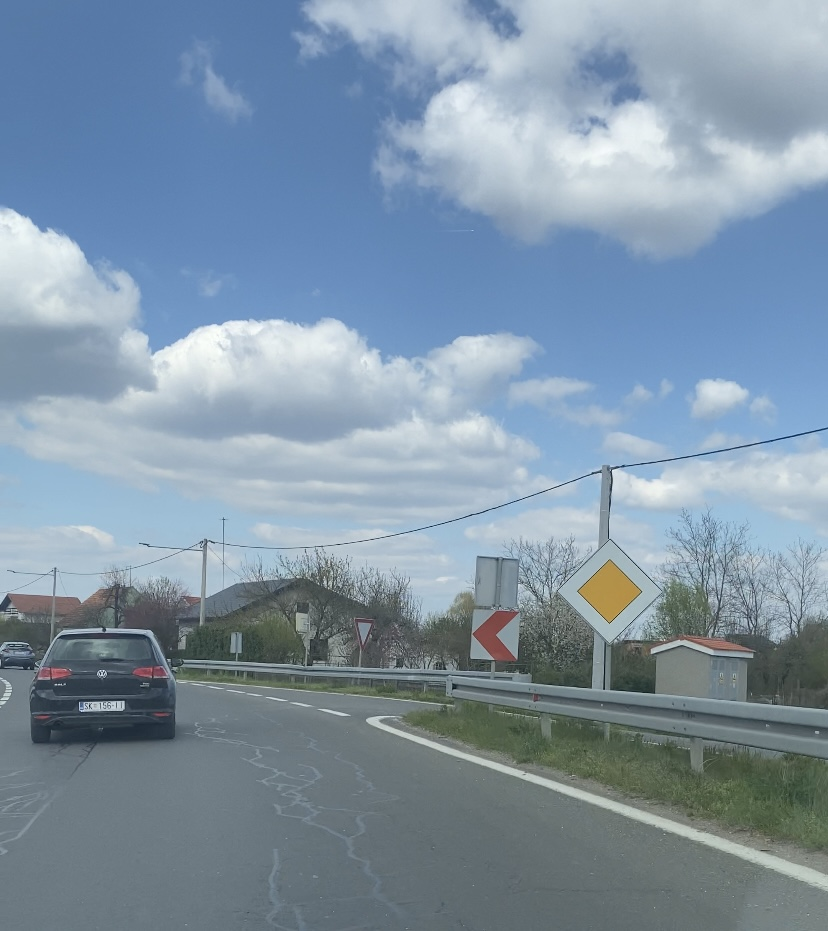Cesta s prednošću prolaska: (555, 538, 665, 646)
